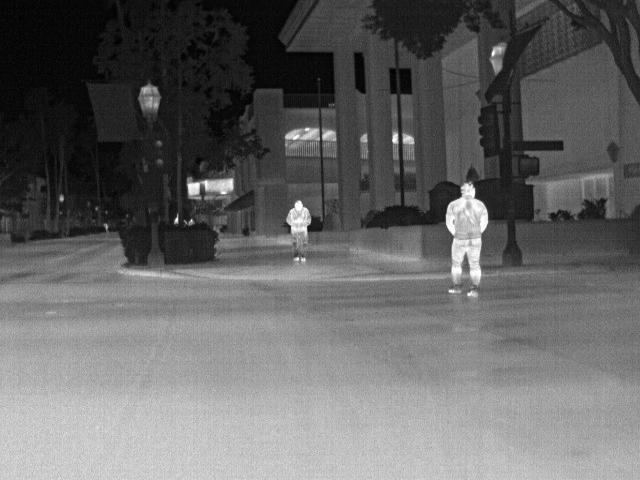person: (443, 180, 489, 296), (284, 199, 312, 264)
